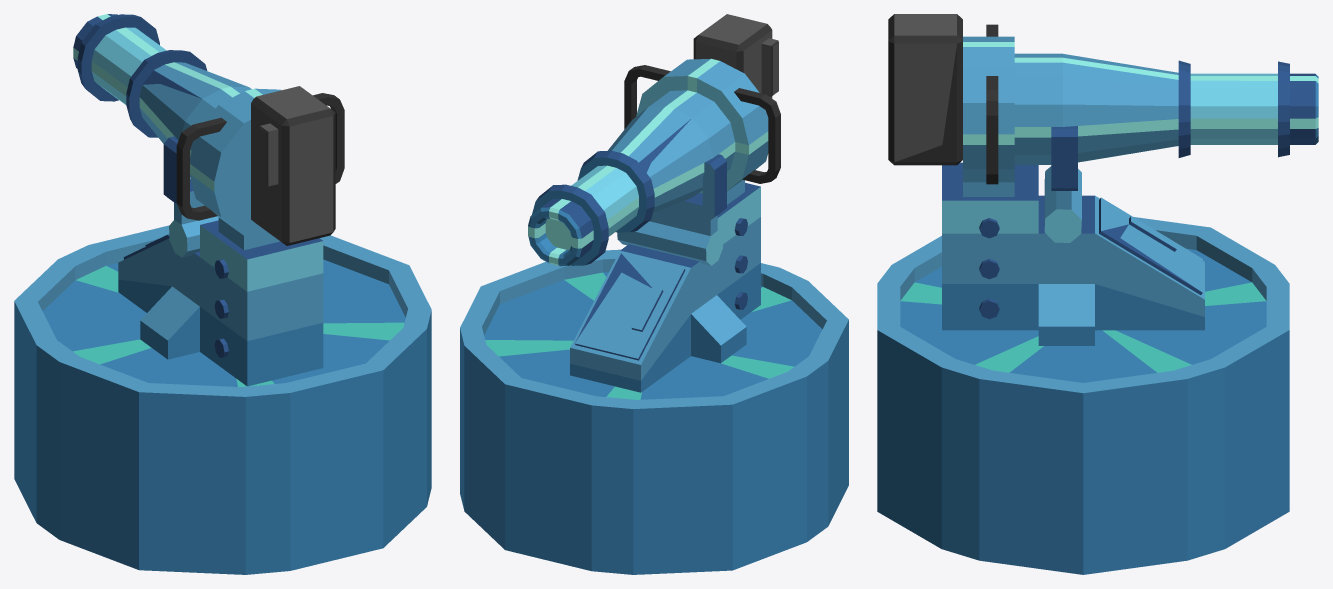
The model's file is Blue Turret.fbx.
3 views of the same model, side by side, from view 1: azimuth 30°, elevation 25°; view 2: azimuth 150°, elevation 25°; view 3: azimuth 270°, elevation 25° (orthographic). The views are drawn at different scales.
Parts seen in each view (by area): view 1: tower_laser_blue_1, top_laser_blue_1; view 2: tower_laser_blue_1, top_laser_blue_1; view 3: tower_laser_blue_1, top_laser_blue_1.
Boxes of the visible parts, x1,y1,x2,y2 form: tower_laser_blue_1: [14, 225, 431, 574]; top_laser_blue_1: [73, 14, 344, 386]; tower_laser_blue_1: [460, 249, 848, 574]; top_laser_blue_1: [528, 14, 780, 392]; tower_laser_blue_1: [877, 217, 1289, 574]; top_laser_blue_1: [888, 14, 1318, 345].
Bounding box in the file's own units: 5.4 × 6.34 × 5.59.
Materials: 1 (1 with a texture image).
